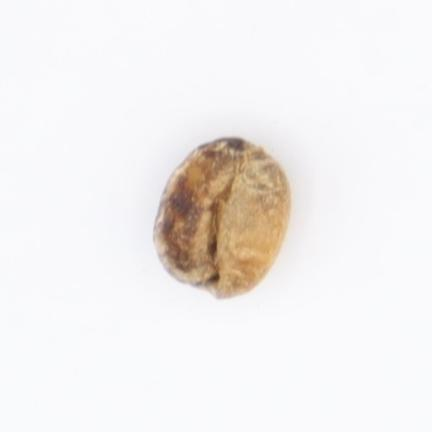partial-black: (154, 138, 289, 296)
